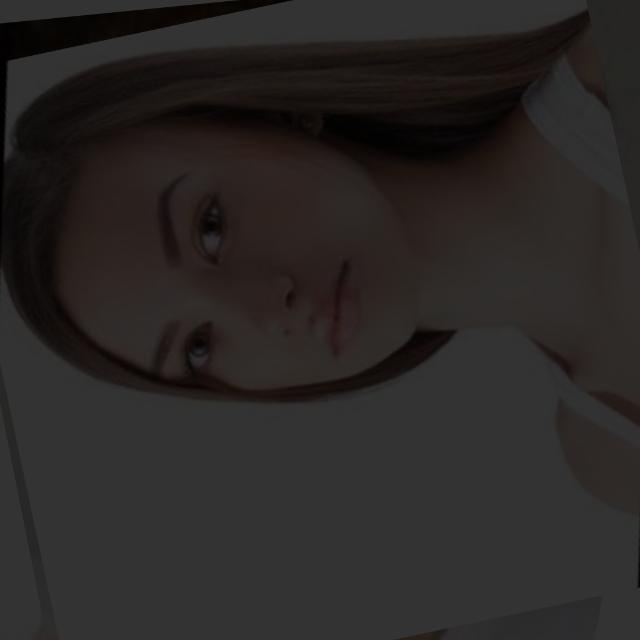natural: (85, 87, 424, 443)
